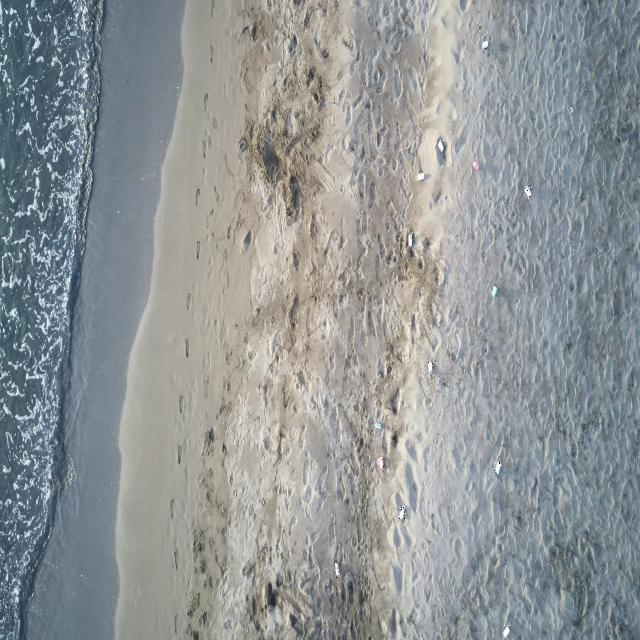tin-and-aluminum-cans: (494, 460, 502, 477), (378, 454, 385, 472), (407, 231, 414, 248), (502, 624, 510, 638), (436, 138, 444, 152), (524, 185, 532, 198), (399, 505, 406, 519), (417, 170, 425, 182), (472, 160, 480, 172), (374, 420, 382, 432), (335, 561, 340, 578), (492, 286, 499, 298), (428, 362, 433, 376), (482, 40, 488, 49)
